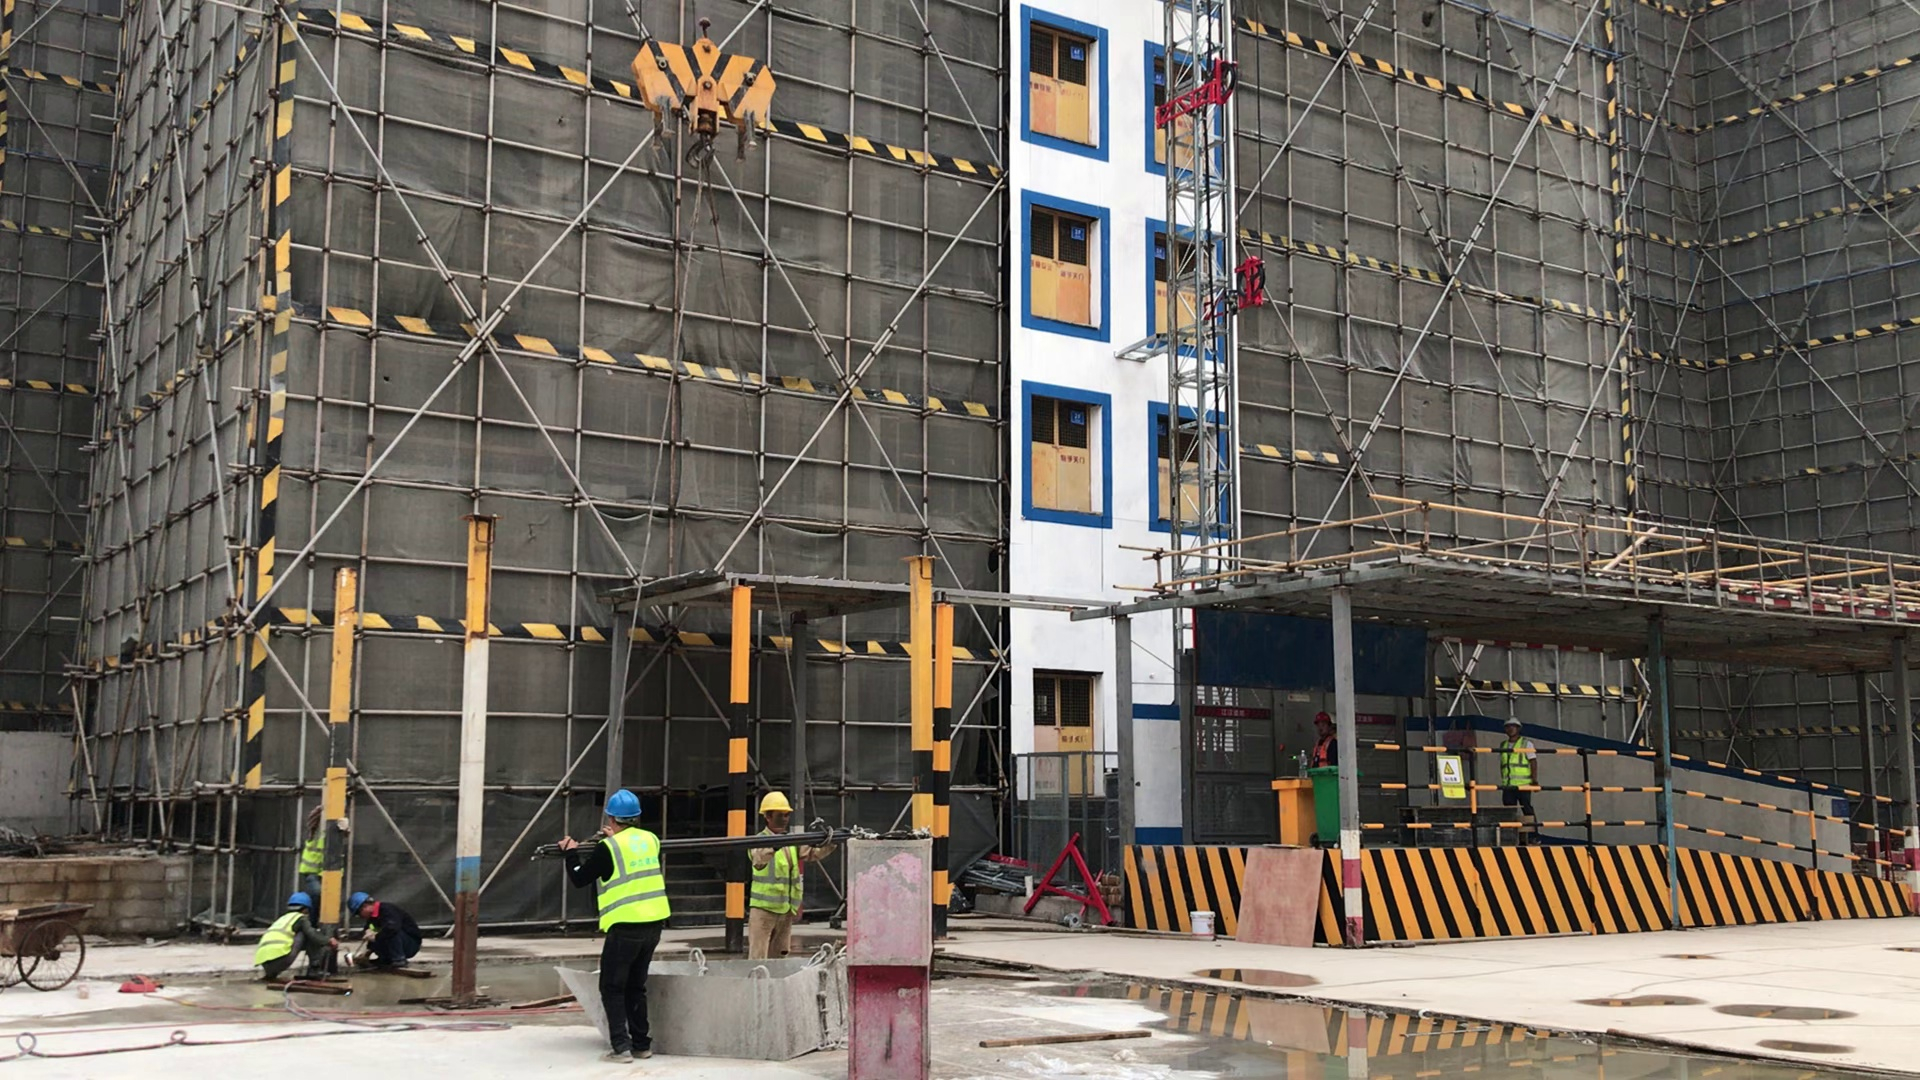fence: (1348, 732, 1920, 889)
handcart: (3, 874, 96, 1012)
helmet: (600, 781, 651, 824), (758, 784, 800, 822), (1489, 707, 1544, 731), (344, 887, 377, 916), (275, 885, 312, 908), (1313, 704, 1340, 733)
hook: (615, 8, 798, 196)
hopper: (545, 930, 865, 1069)
person: (547, 772, 696, 1066), (733, 765, 825, 969), (240, 872, 344, 996), (327, 872, 427, 993), (1497, 703, 1556, 853), (290, 774, 359, 892), (1308, 696, 1346, 781)
rebar: (658, 819, 845, 859), (526, 830, 587, 870)
slogan: (1419, 741, 1481, 812)
vest: (593, 825, 673, 936), (748, 821, 808, 915), (251, 910, 314, 969), (1491, 733, 1545, 792), (296, 808, 330, 876), (1307, 736, 1335, 766)
